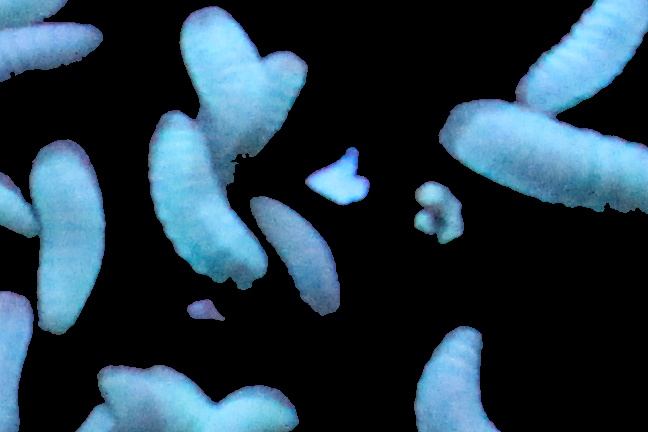larvae: (451, 102, 648, 216), (146, 109, 268, 284), (33, 131, 104, 338), (513, 1, 648, 109), (174, 9, 258, 182), (248, 189, 343, 318), (413, 326, 503, 432), (1, 24, 103, 86), (1, 289, 35, 432), (259, 49, 309, 146), (205, 388, 305, 432), (1, 168, 38, 243)
